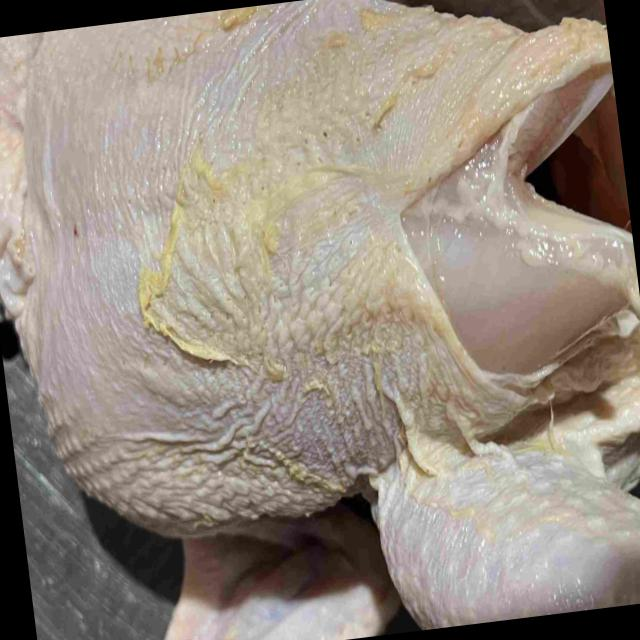breast: (22, 0, 639, 537)
leg: (375, 454, 640, 630)
neck: (0, 31, 47, 372)
wing: (166, 486, 398, 640)
